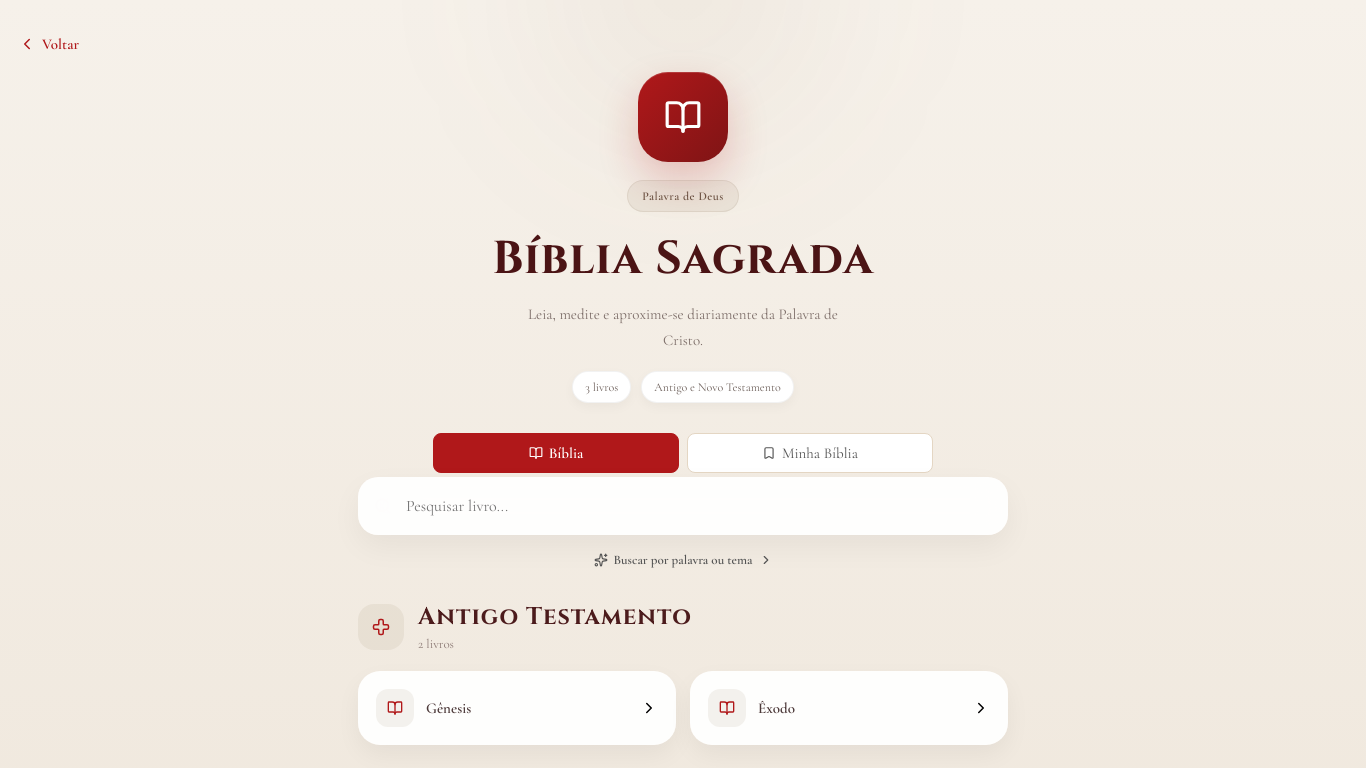
it: BibliaHome › shows an empty state when no book matches
Type "zzz" into the search field with placeholder "Pesquisar livro...".
click(683, 506); type("zzz")  # box [358,477,1008,535]
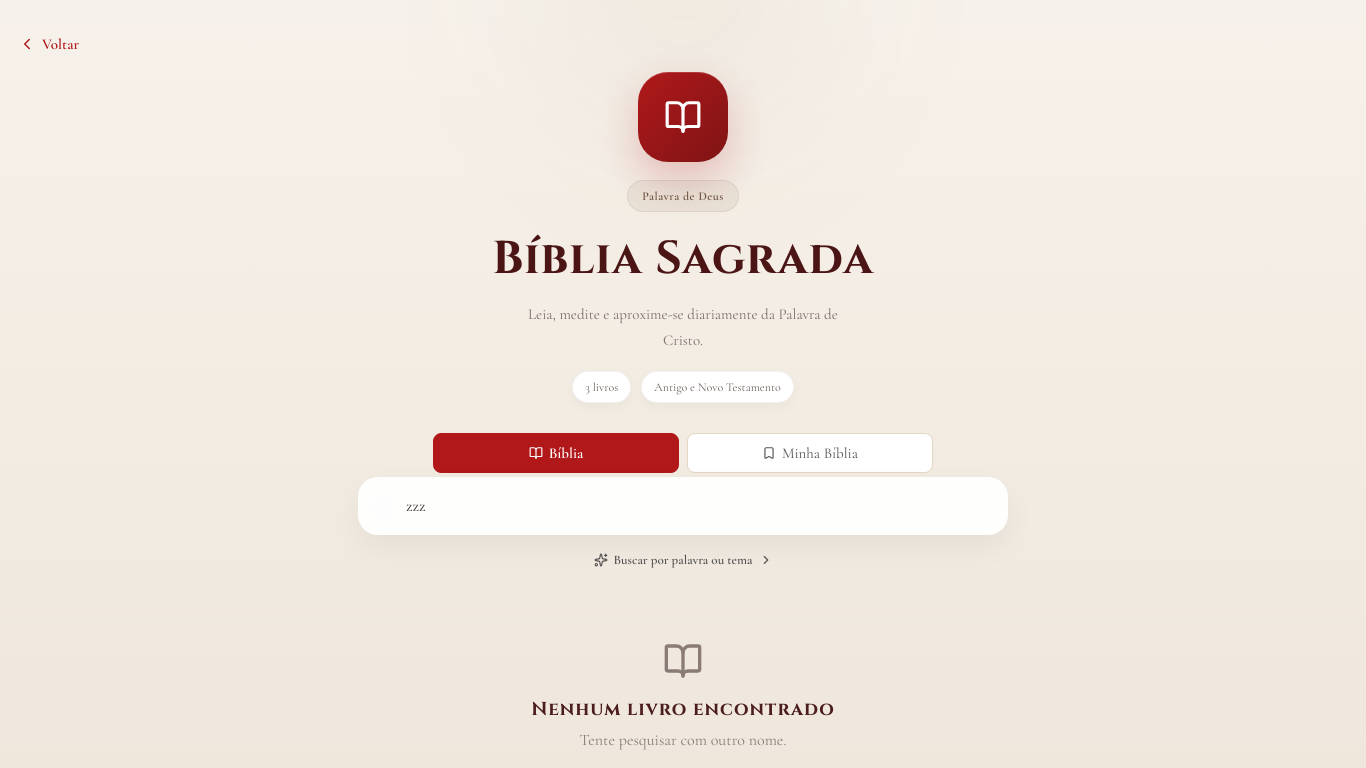
Result: the heading "Nenhum livro encontrado" is shown at [531,697,835,722]
